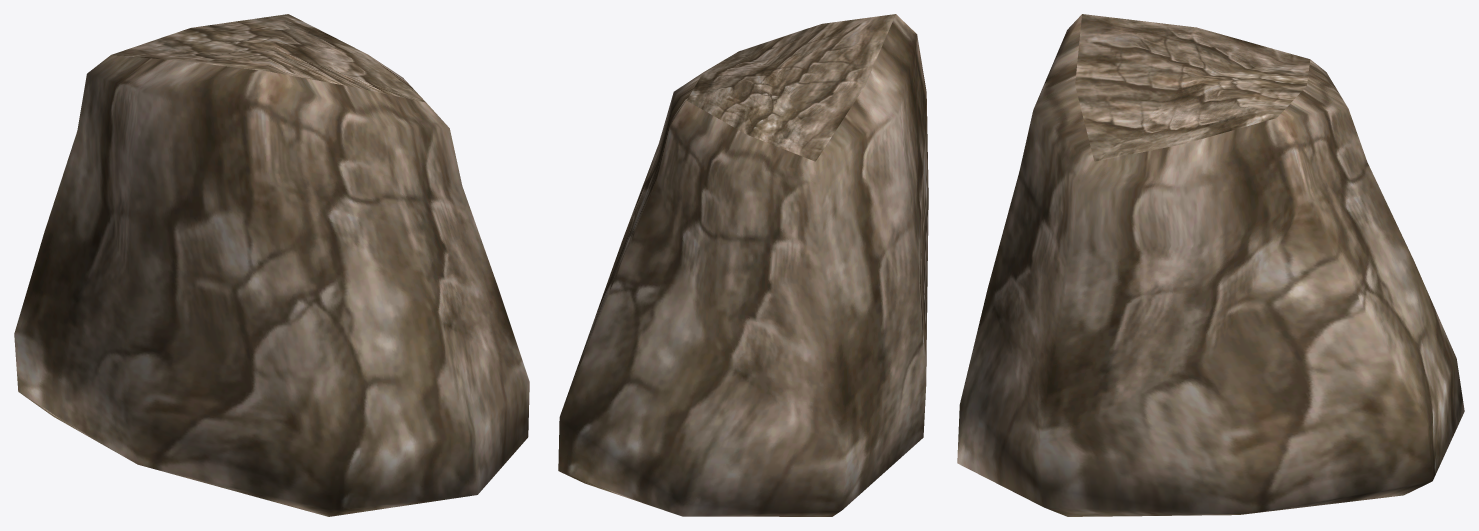
The model's file is INST_EKH_ROCKENTB.fbx.
3 views of the same model, side by side, from view 1: azimuth 30°, elevation 25°; view 2: azimuth 150°, elevation 25°; view 3: azimuth 270°, elevation 25° (orthographic). The views are drawn at different scales.
Visible parts, largest first — view 1: INST_EKH_ROCKENTB; view 2: INST_EKH_ROCKENTB; view 3: INST_EKH_ROCKENTB.
Boxes of the visible parts, bbox=[...] form: INST_EKH_ROCKENTB: bbox=[14, 14, 529, 516]; INST_EKH_ROCKENTB: bbox=[558, 14, 928, 516]; INST_EKH_ROCKENTB: bbox=[957, 14, 1464, 516].
Size of the model in its own units: 18523 by 22195 by 24663.
1 material, 1 textured.
